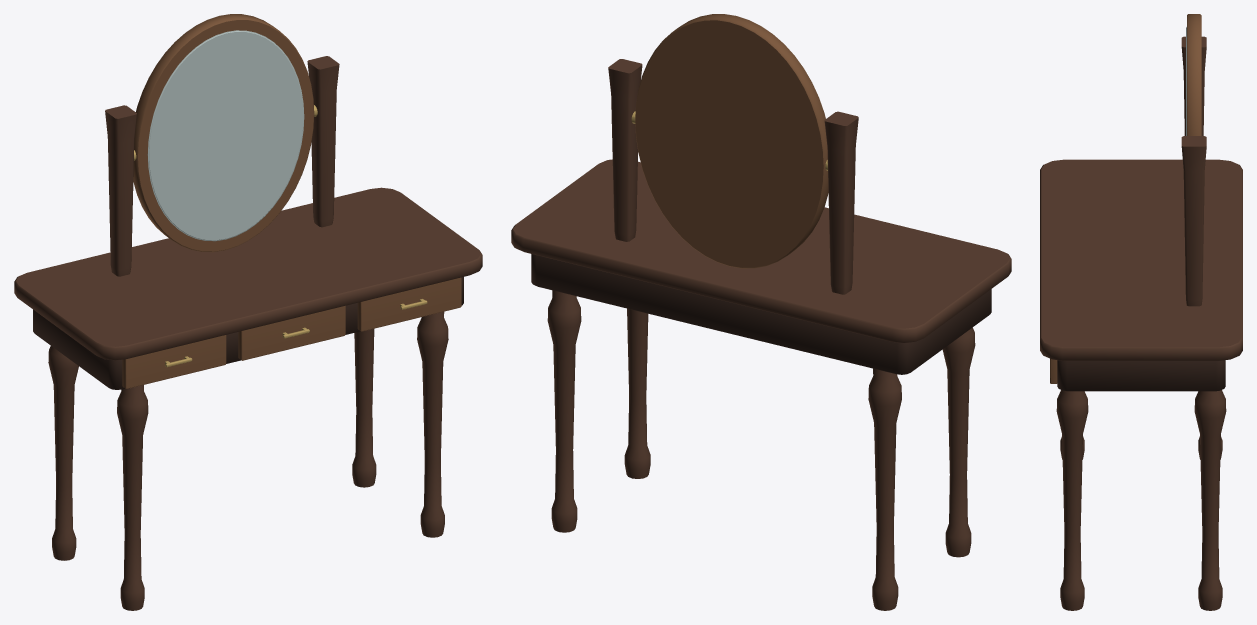
File: rpg-mansion-oval-mirror-dressing-table-01.glb
3 views of the same model, side by side, from view 1: azimuth 30°, elevation 25°; view 2: azimuth 150°, elevation 25°; view 3: azimuth 270°, elevation 25° (orthographic). The views are drawn at different scales.
Parts seen in each view (by area): view 1: rpg-mansion-oval-mirror-dressing-table-01; view 2: rpg-mansion-oval-mirror-dressing-table-01; view 3: rpg-mansion-oval-mirror-dressing-table-01.
Part boxes in pixels (x1=…): rpg-mansion-oval-mirror-dressing-table-01: x1=14, y1=14, x2=482, y2=610; rpg-mansion-oval-mirror-dressing-table-01: x1=511, y1=14, x2=1011, y2=610; rpg-mansion-oval-mirror-dressing-table-01: x1=1040, y1=14, x2=1242, y2=610.
Size of the model in its own units: 1.1 by 1.39 by 0.5.
